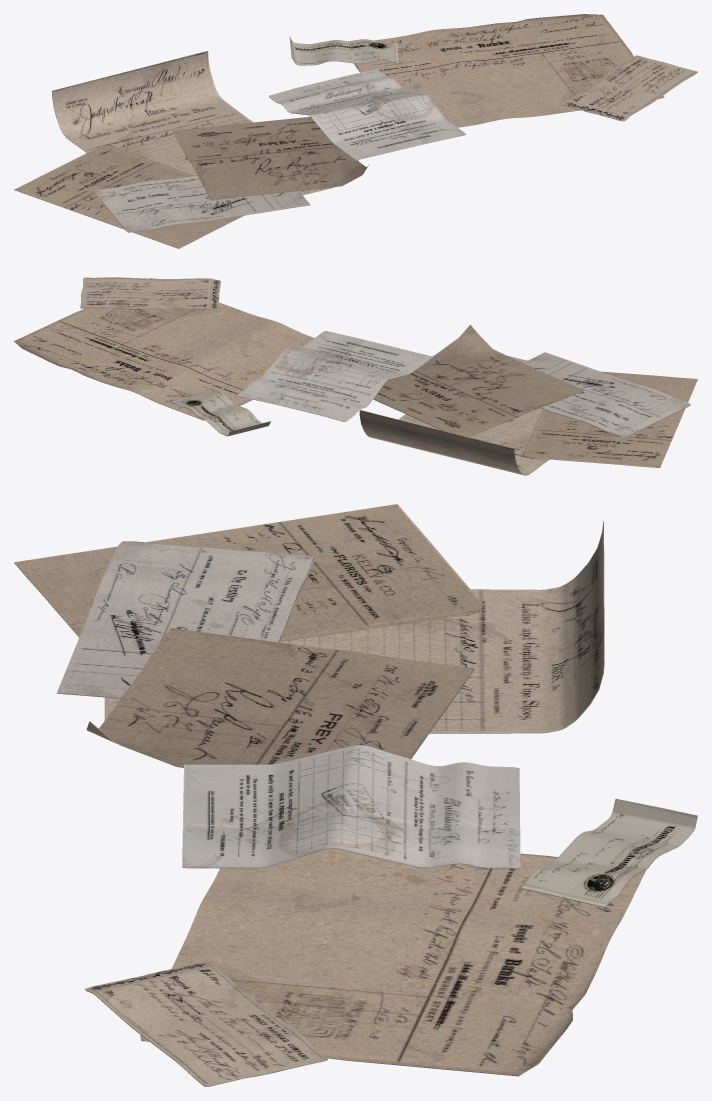
Rendered from OldPapersStack1.fbx.
The picture shows the model from 3 angles, top to bottom: view 1: azimuth 30°, elevation 25°; view 2: azimuth 150°, elevation 25°; view 3: azimuth 270°, elevation 25°; orthographic projection. The views are drawn at different scales.
Visible parts, largest first — view 1: 19th-Century Paper Clutter Receipts.001; view 2: 19th-Century Paper Clutter Receipts.001; view 3: 19th-Century Paper Clutter Receipts.001.
Part boxes in pixels (x1=…): 19th-Century Paper Clutter Receipts.001: x1=14, y1=14, x2=697, y2=248; 19th-Century Paper Clutter Receipts.001: x1=14, y1=277, x2=697, y2=475; 19th-Century Paper Clutter Receipts.001: x1=14, y1=504, x2=697, y2=1086.
Size of the model in its own units: 81.79 by 4.77 by 40.55.
2 materials, 2 textured.
